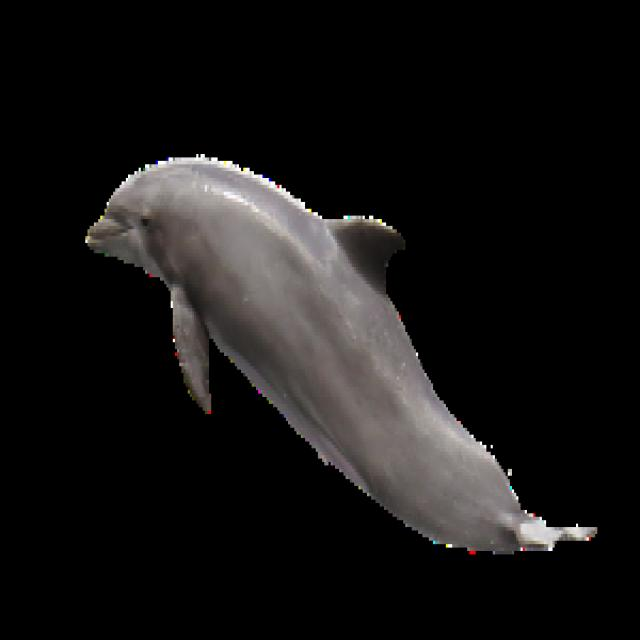Dolphin: (72, 151, 608, 571)
